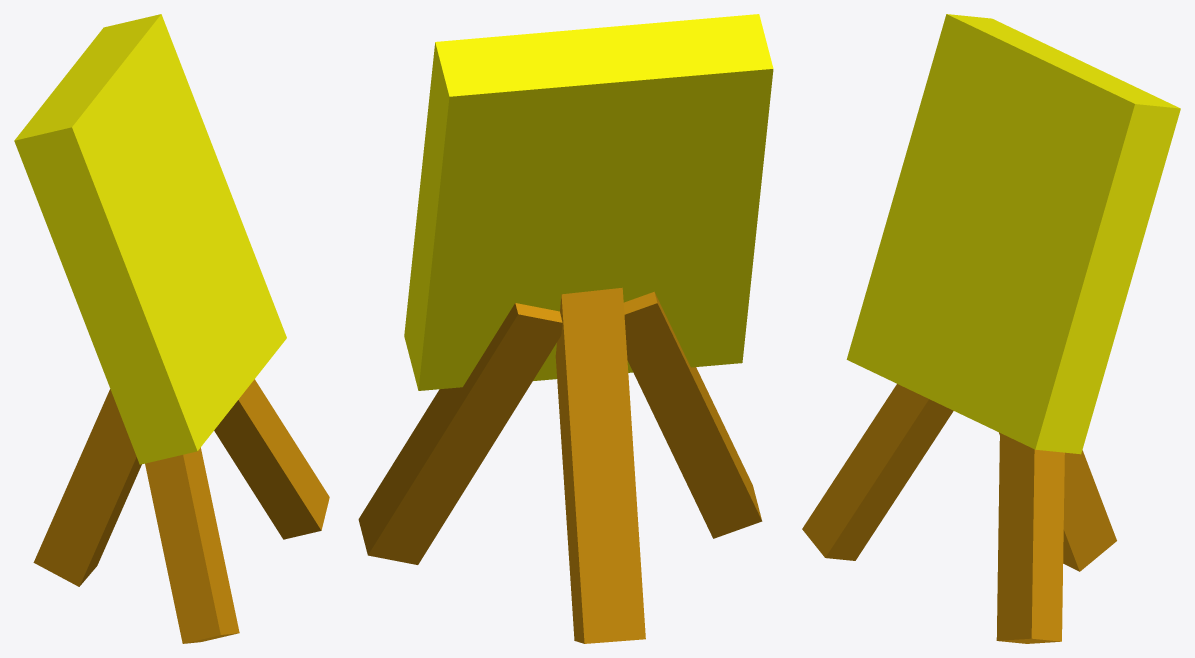
File: placaUm.fbx
3 views of the same model, side by side, from view 1: azimuth 30°, elevation 25°; view 2: azimuth 150°, elevation 25°; view 3: azimuth 270°, elevation 25° (orthographic). The views are drawn at different scales.
Visible parts, largest first — view 1: placatres; view 2: placatres; view 3: placatres.
Boxes of the visible parts, x1,y1,x2,y2 form: placatres: [14, 14, 329, 643]; placatres: [358, 14, 773, 643]; placatres: [802, 14, 1180, 643].
Size of the model in its own units: 47.92 by 69.62 by 46.62.
